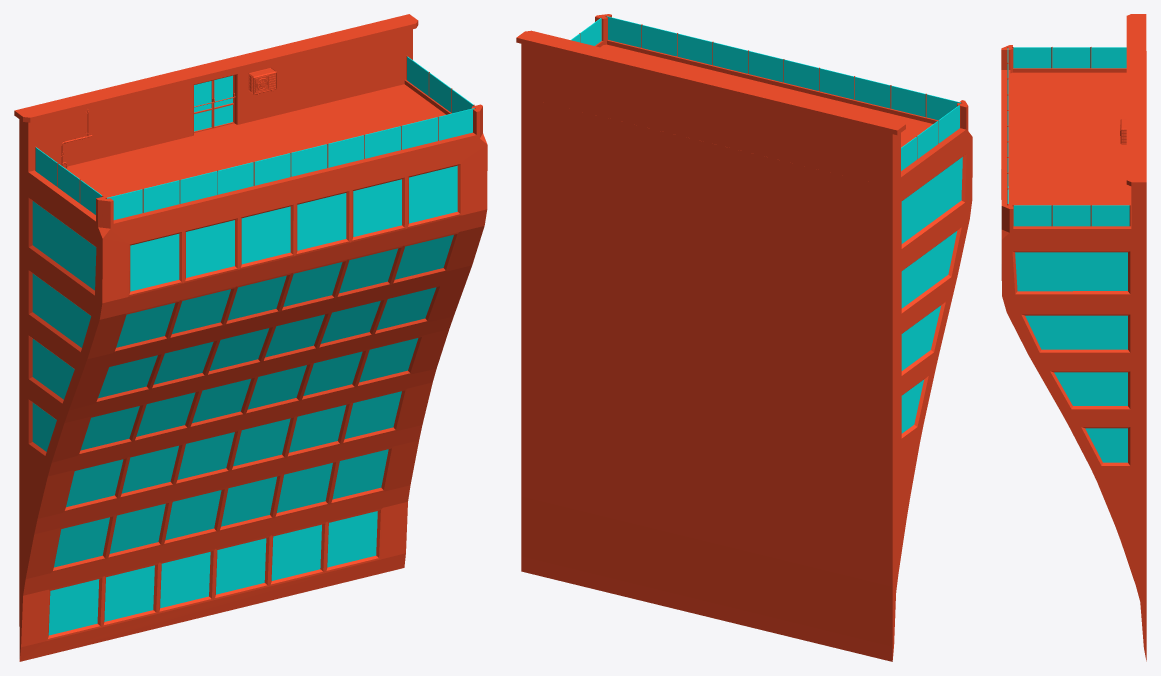
File: SM_Skyscraper_C_Balcony_B_City.fbx
3 views of the same model, side by side, from view 1: azimuth 30°, elevation 25°; view 2: azimuth 150°, elevation 25°; view 3: azimuth 270°, elevation 25° (orthographic). The views are drawn at different scales.
Parts seen in each view (by area): view 1: SM_Skyscraper_C_Balcony_B_City; view 2: SM_Skyscraper_C_Balcony_B_City; view 3: SM_Skyscraper_C_Balcony_B_City.
Part boxes in pixels (left/top/right/bottom): SM_Skyscraper_C_Balcony_B_City: left=14, top=14, right=487, bottom=661; SM_Skyscraper_C_Balcony_B_City: left=516, top=14, right=972, bottom=661; SM_Skyscraper_C_Balcony_B_City: left=1001, top=14, right=1146, bottom=661.
Size of the model in its own units: 18.03 by 24.09 by 6.59.
